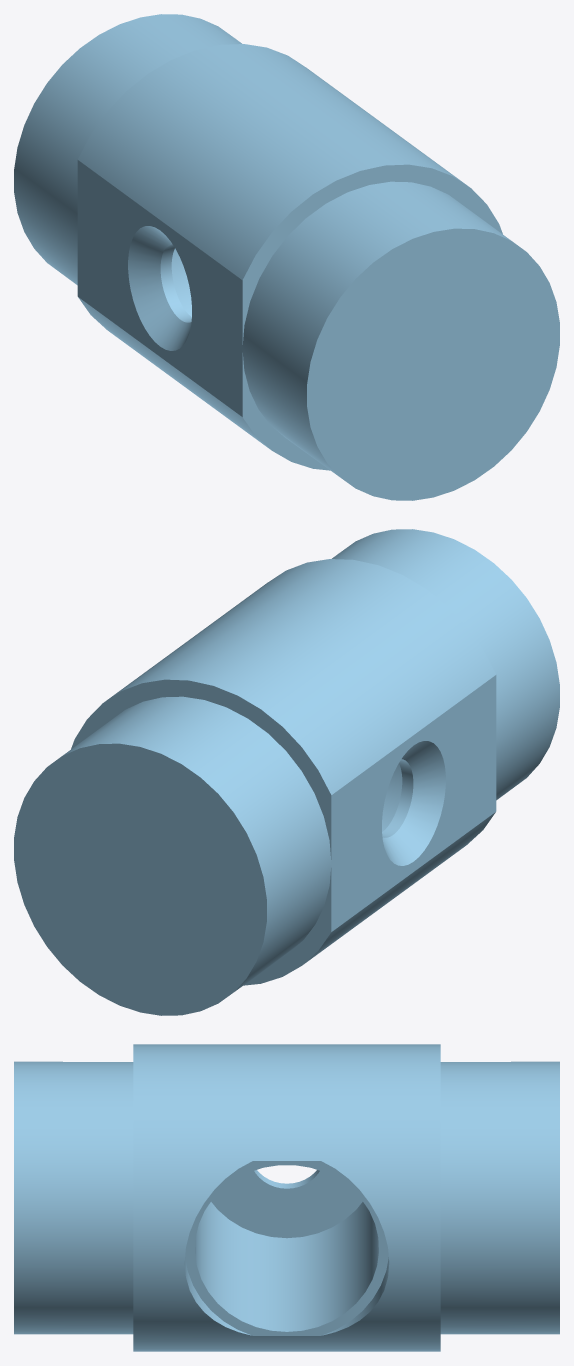
File: WristPitch.dae
The picture shows the model from 3 angles, top to bottom: view 1: azimuth 30°, elevation 25°; view 2: azimuth 150°, elevation 25°; view 3: azimuth 270°, elevation 25°; orthographic projection. The views are drawn at different scales.
Visible parts, largest first — view 1: 11_EE_PitchLink; view 2: 11_EE_PitchLink; view 3: 11_EE_PitchLink.
Boxes of the visible parts, x1,y1,x2,y2 form: 11_EE_PitchLink: (14, 14, 559, 500); 11_EE_PitchLink: (14, 529, 559, 1015); 11_EE_PitchLink: (14, 1044, 559, 1351).
Size of the model in its own units: 0.0085 by 0.016 by 0.00898.
